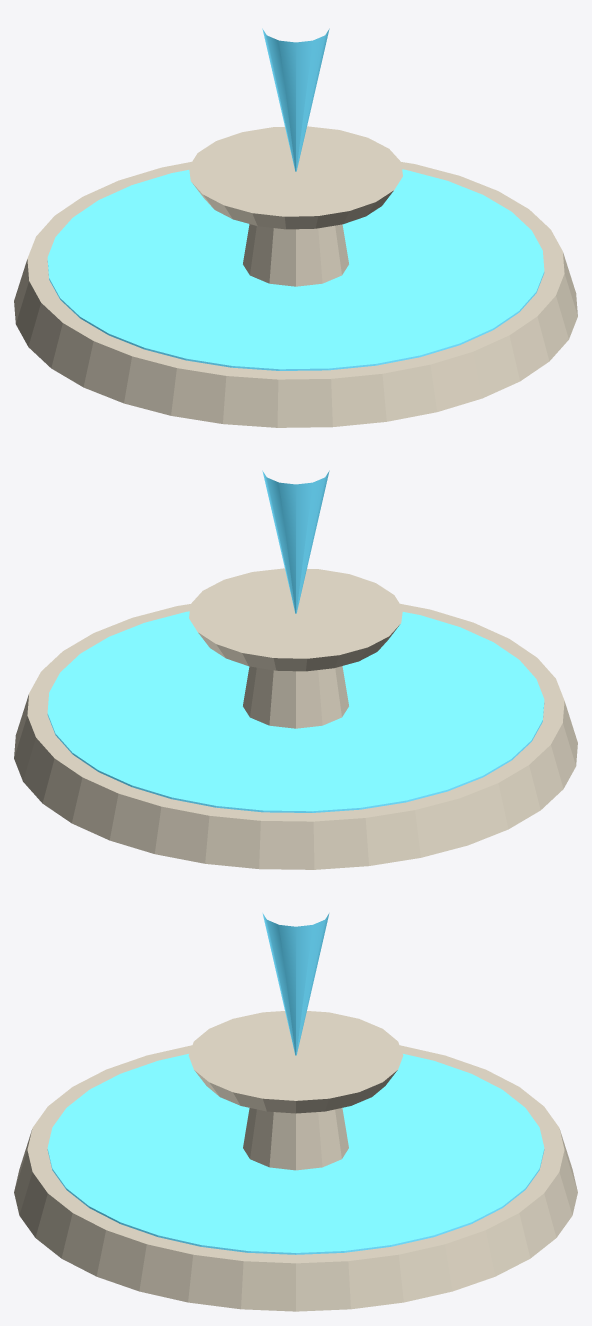
The model's file is fountain.glb.
3 views of the same model, one above another, from view 1: azimuth 30°, elevation 25°; view 2: azimuth 150°, elevation 25°; view 3: azimuth 270°, elevation 25° (orthographic).
Visible parts, largest first — view 1: fountain; view 2: fountain; view 3: fountain.
Boxes of the visible parts, left/top/right/bottom form: fountain: left=14, top=28, right=577, bottom=427; fountain: left=14, top=470, right=577, bottom=869; fountain: left=14, top=913, right=577, bottom=1311.
Bounding box in the file's own units: 8.4 × 4.6 × 8.4.
